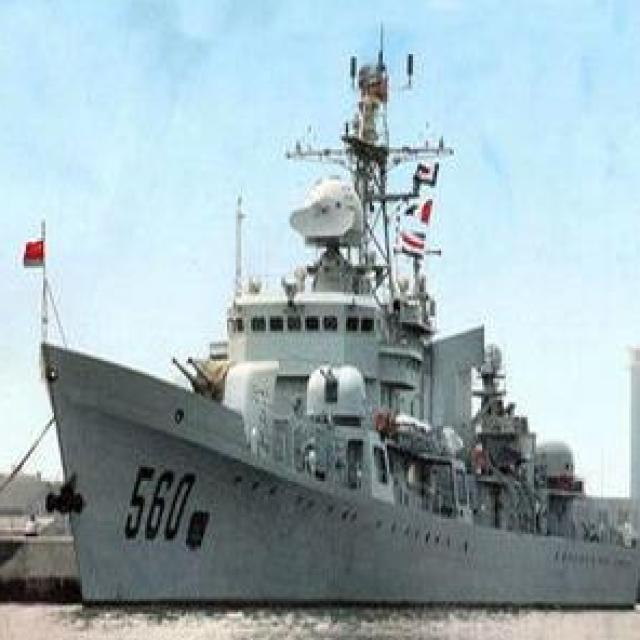navalvessels: (34, 56, 640, 609)
